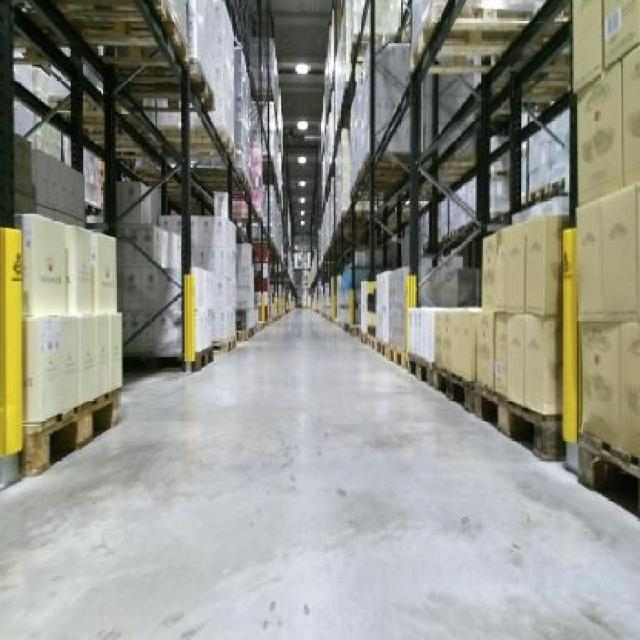floor: (0, 309, 637, 637)
pallets: (0, 226, 20, 485)
